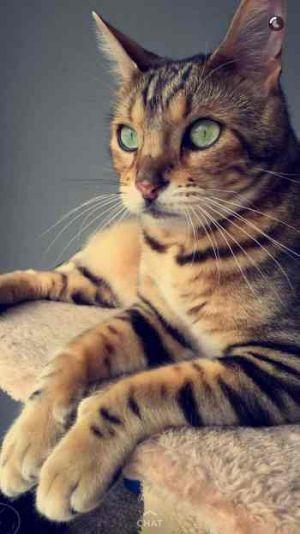bengal: (69, 1, 300, 235)
